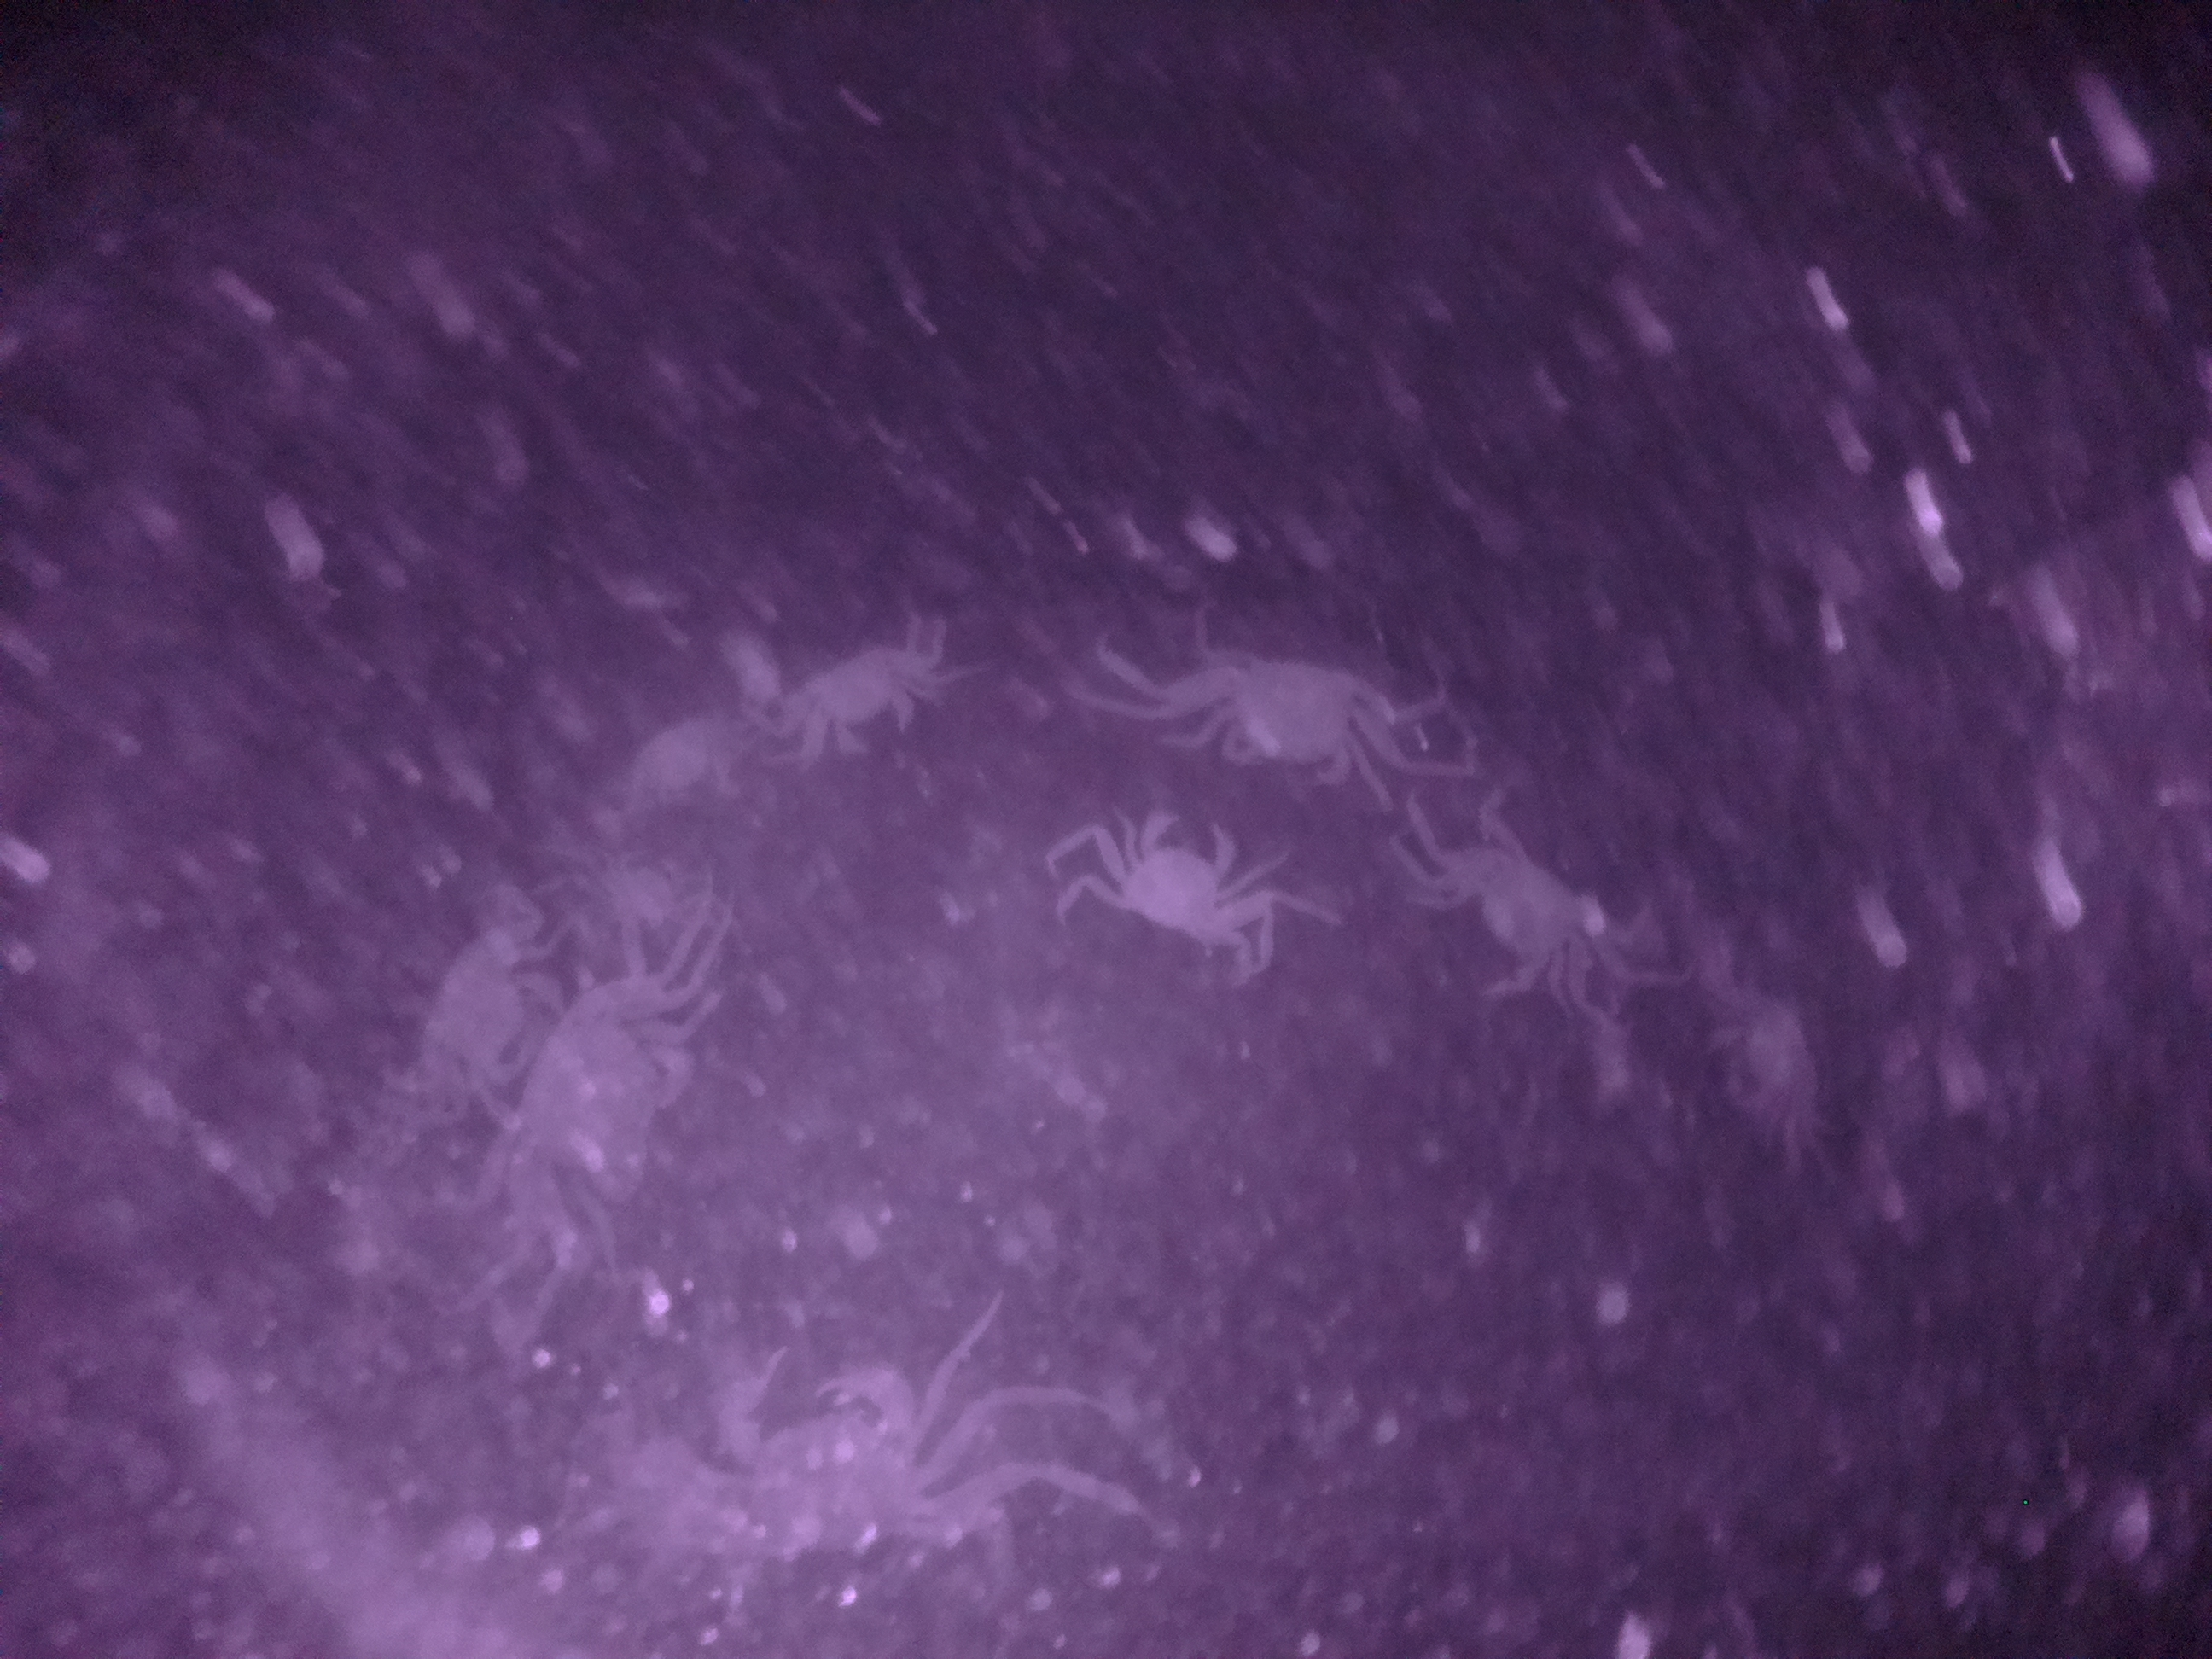Crab: (1172, 629, 1397, 803), (1073, 788, 1287, 962)
